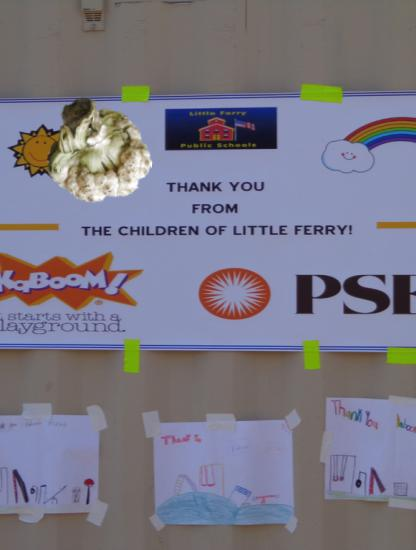Cauliflower: (46, 98, 154, 206)
